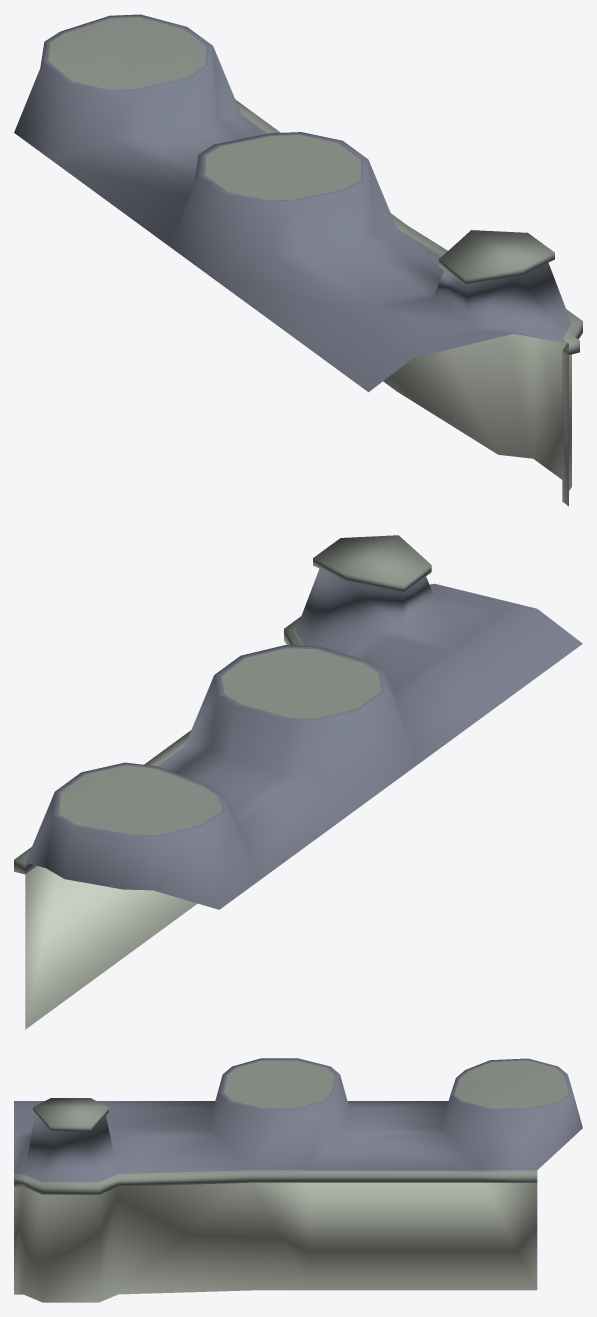
Rendered from p-bld-4.glb.
3 views of the same model, one above another, from view 1: azimuth 30°, elevation 25°; view 2: azimuth 150°, elevation 25°; view 3: azimuth 270°, elevation 25° (orthographic). The views are drawn at different scales.
Visible parts, largest first — view 1: Cube-col; view 2: Cube-col; view 3: Cube-col.
Boxes of the visible parts, left/top/right/bottom form: Cube-col: left=14, top=14, right=582, bottom=506; Cube-col: left=14, top=535, right=582, bottom=1029; Cube-col: left=14, top=1058, right=582, bottom=1302.
Bounding box in the file's own units: 10.5 × 10.2 × 30.
